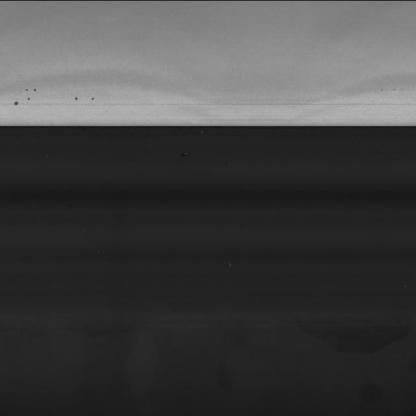oil_spot: (12, 86, 43, 108), (68, 92, 105, 107)
